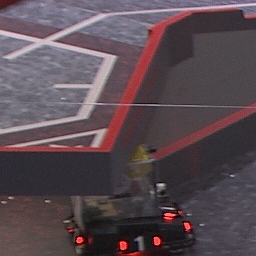Red: (117, 233, 161, 252), (155, 200, 179, 219)
Robot: (65, 147, 197, 254)
